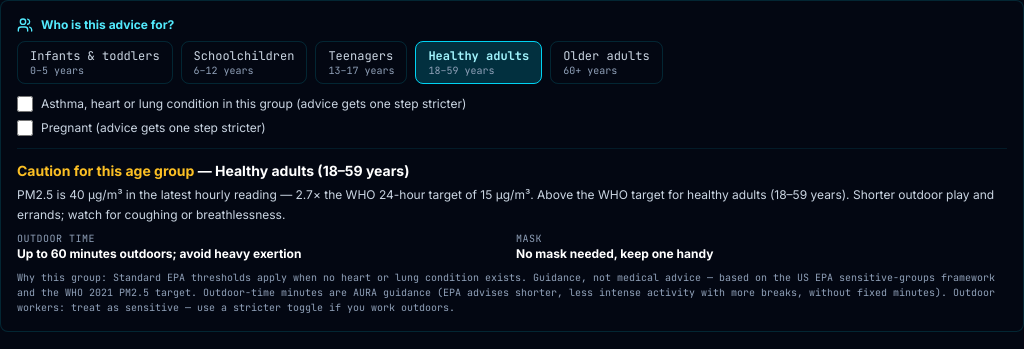
Scenario: AgeGuidance component › switching to teenagers makes the advice one step stricter for the same reading
The width and height of the screenshot is (1024, 349).
Click the button "Teenagers 13–17 years" at {"x": 361, "y": 63}, box [315,41,407,84]
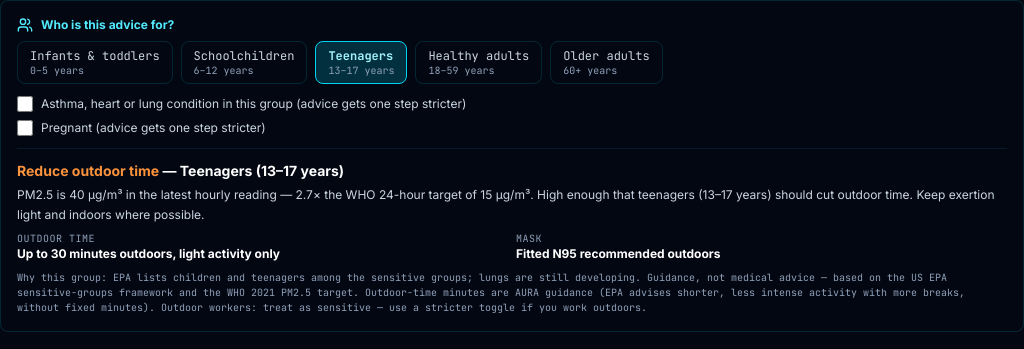
Result: the text "Reduce outdoor time" is shown at [17,162,159,179]
